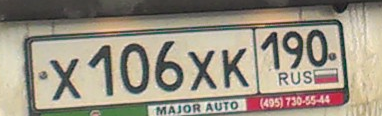character: (117, 40, 152, 96), (87, 39, 119, 100), (152, 39, 186, 96), (47, 56, 84, 105), (185, 49, 219, 93), (218, 47, 253, 89), (259, 29, 283, 74), (281, 29, 306, 71), (305, 27, 329, 67)
